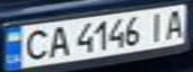1: (90, 17, 112, 52)
4: (72, 19, 96, 54), (106, 15, 130, 49)
6: (121, 12, 148, 46)
A: (160, 7, 190, 40), (45, 24, 72, 58)
C: (18, 27, 51, 62)
I: (142, 9, 172, 42)
